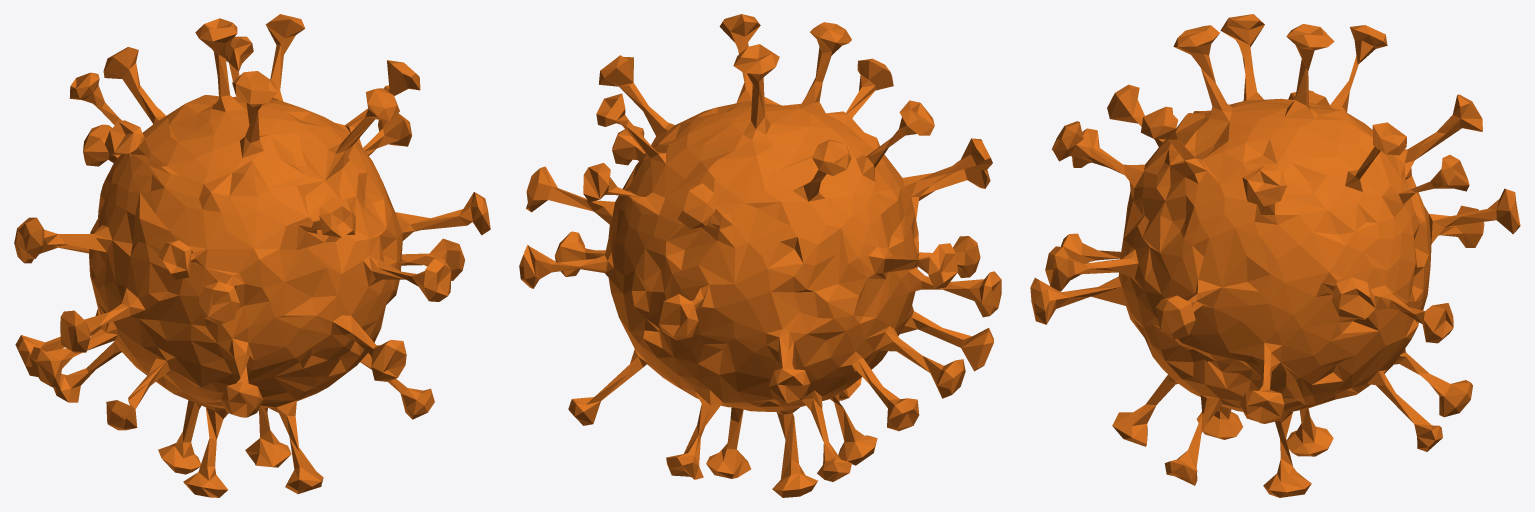
3 renders of one model, left to right at view 1: azimuth 30°, elevation 25°; view 2: azimuth 150°, elevation 25°; view 3: azimuth 270°, elevation 25°, orthographic.
Parts seen in each view (by area): view 1: VRayProxy008; view 2: VRayProxy008; view 3: VRayProxy008.
Part boxes in pixels (left/top/right/bottom): VRayProxy008: left=14, top=14, right=490, bottom=497; VRayProxy008: left=519, top=14, right=1001, bottom=497; VRayProxy008: left=1030, top=14, right=1520, bottom=497.
Size of the model in its own units: 16.94 by 17.17 by 17.05.
